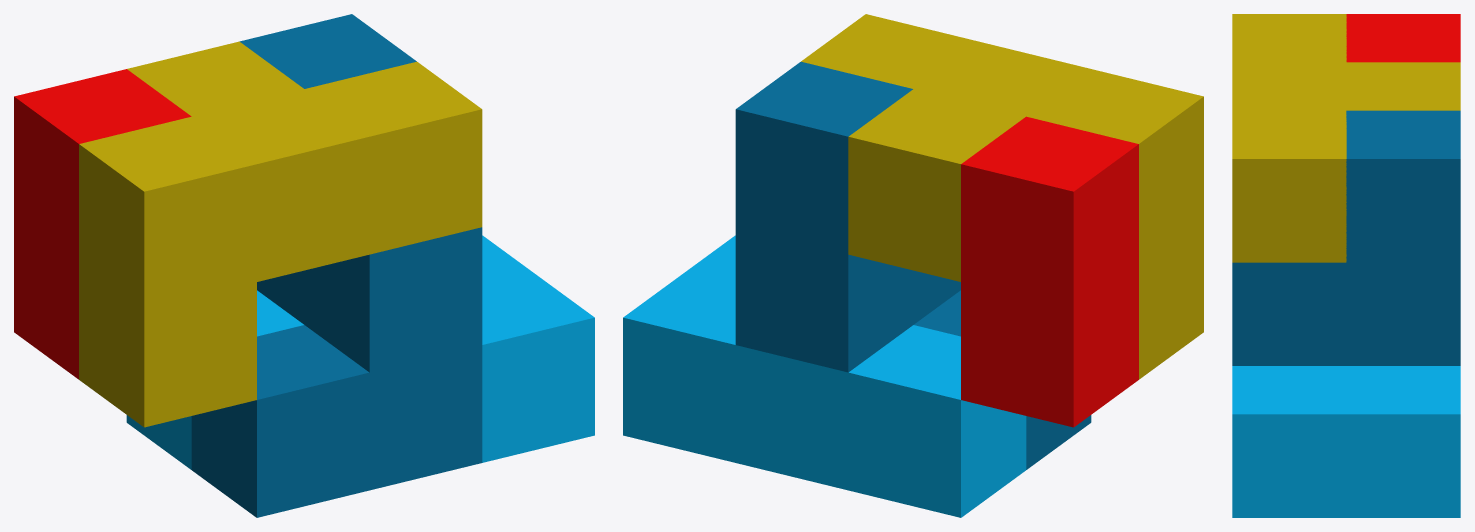
The picture shows the model from 3 angles, left to right: view 1: azimuth 30°, elevation 25°; view 2: azimuth 150°, elevation 25°; view 3: azimuth 270°, elevation 25°; orthographic projection. The views are drawn at different scales.
Visible parts, largest first — view 1: mergedBlocks(Clone); view 2: mergedBlocks(Clone); view 3: mergedBlocks(Clone).
Boxes of the visible parts, box(x1,y1,x2,y2) form: mergedBlocks(Clone): box(14, 14, 594, 517); mergedBlocks(Clone): box(623, 14, 1203, 517); mergedBlocks(Clone): box(1232, 14, 1460, 517).
Bounding box in the file's own units: 4 × 3 × 2.
4 materials, 4 textured.
